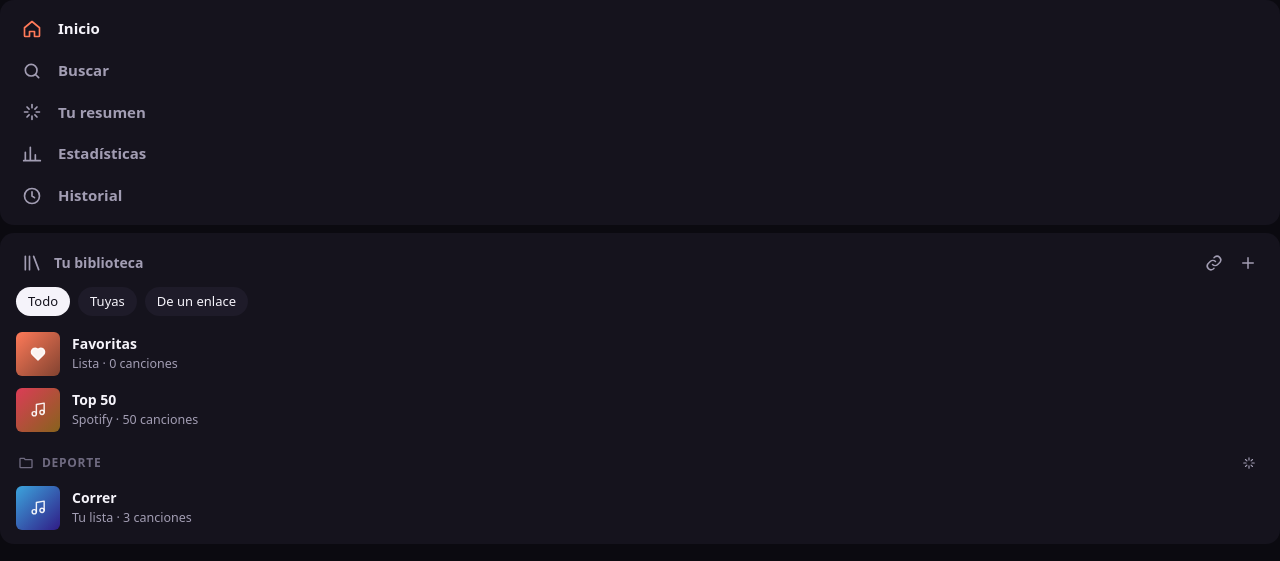
Test: Sidebar › lists your lists by folder, and opens one
Expected: the text "Deporte" is shown, x1=42 y1=454 x2=101 y2=471
Click the text "Top 50": (94, 400) x1=72 y1=390 x2=116 y2=409
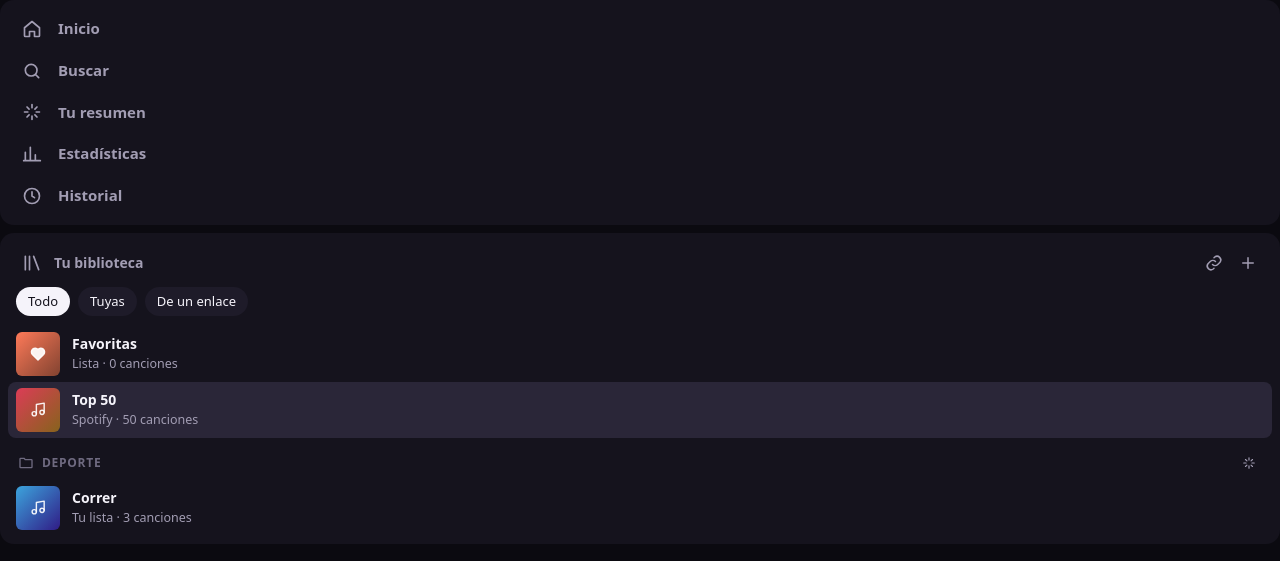
Click the radio button labelled "Tuyas": (107, 301) x1=78 y1=287 x2=137 y2=316
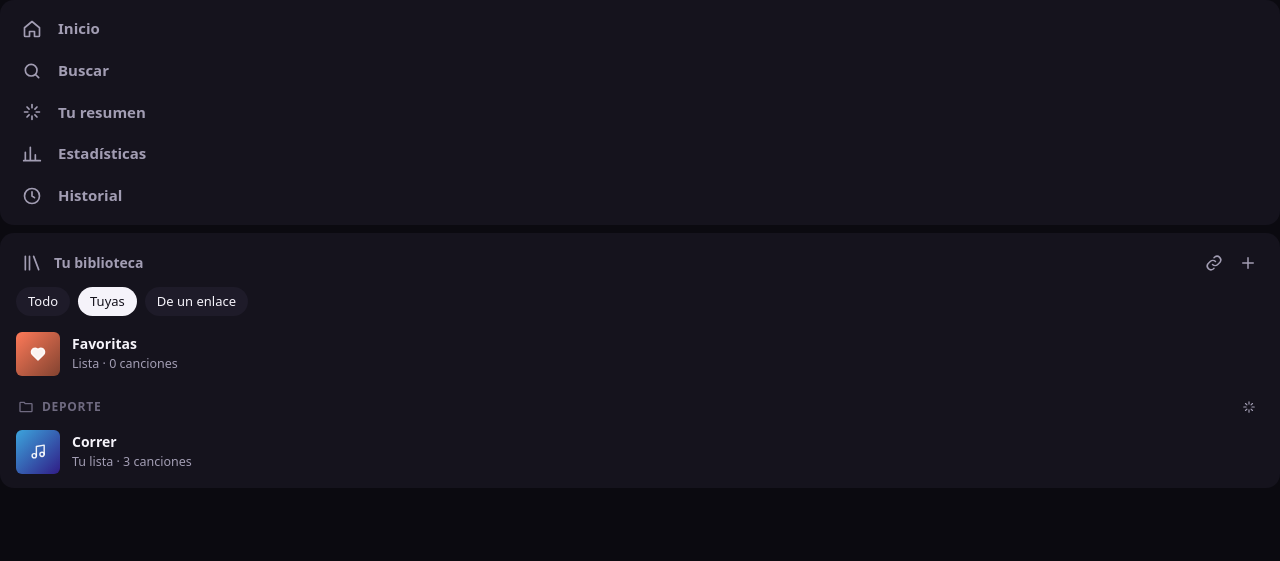
Expected: the text "Correr" is shown, x1=72 y1=432 x2=117 y2=451
Expected: the button "Top 50" is gone
